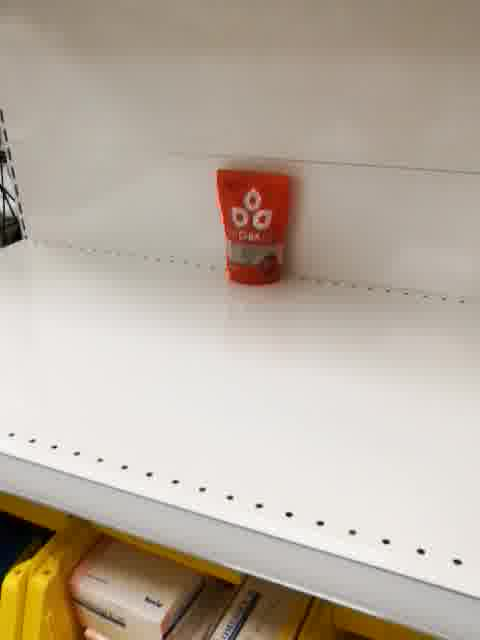whitechia: (213, 166, 297, 287)
